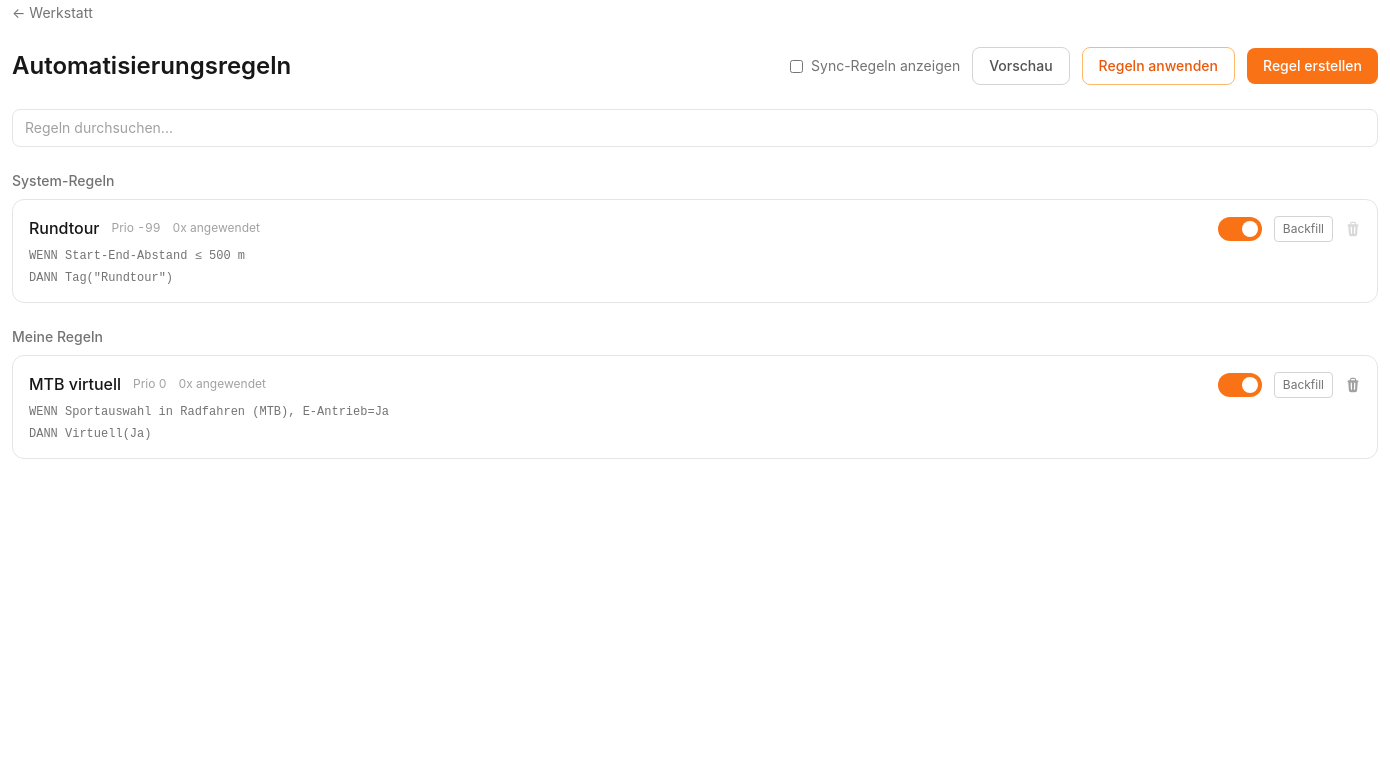
Test: AutomationRulesPage rule summaries › hides only readonly sync rules until the sync checkbox is enabled
Expected: the heading "Rundtour" is shown, x1=29 y1=216 x2=100 y2=240
Expected: the heading "System-Regeln" is shown, x1=12 y1=172 x2=114 y2=189
Click the checkbox labelled "Sync-Regeln anzeigen": (796, 66) x1=790 y1=60 x2=803 y2=72
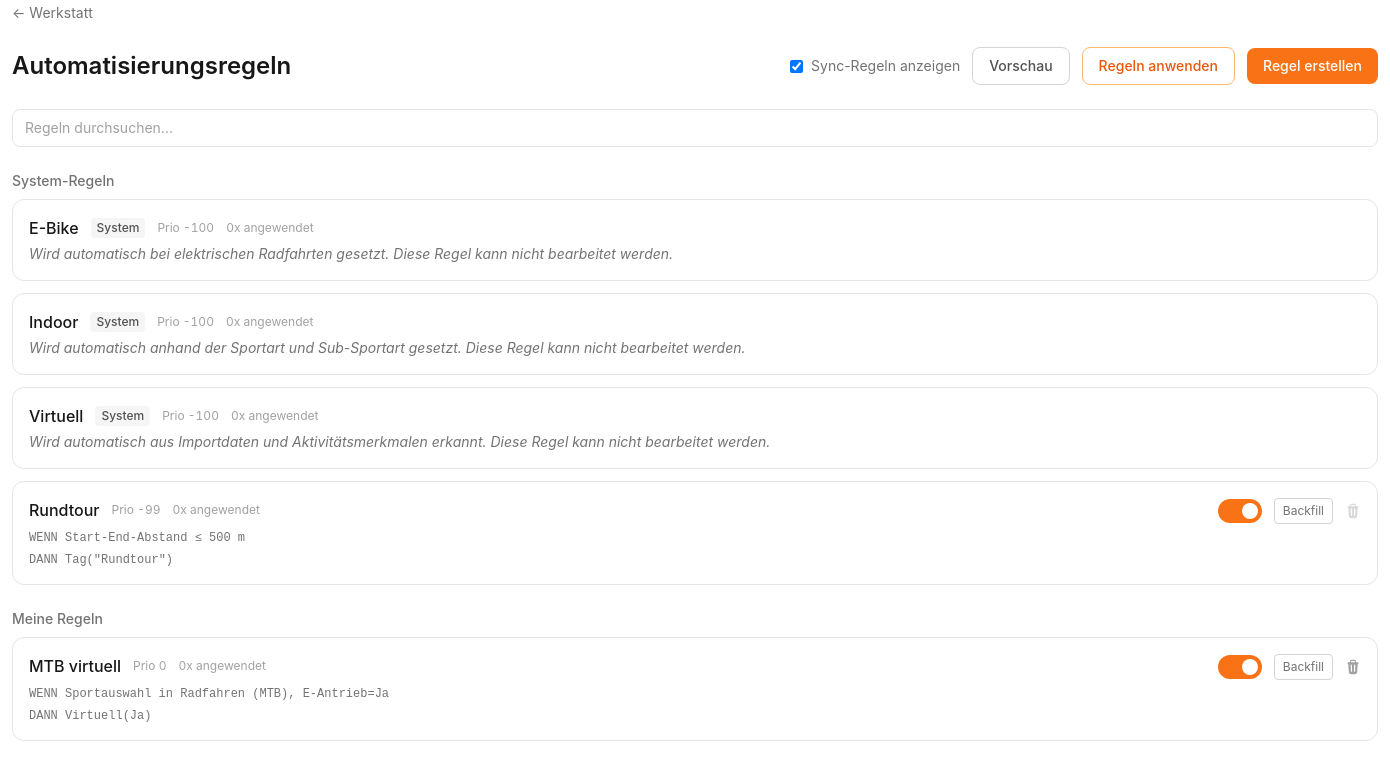
Result: the heading "E-Bike" is shown at x1=29 y1=216 x2=79 y2=240
Result: the heading "Indoor" is shown at x1=29 y1=310 x2=78 y2=334
Result: the heading "Virtuell" is shown at x1=29 y1=404 x2=83 y2=428
